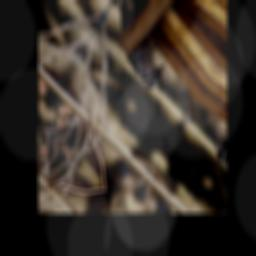Woodpecker: (95, 0, 195, 95)
